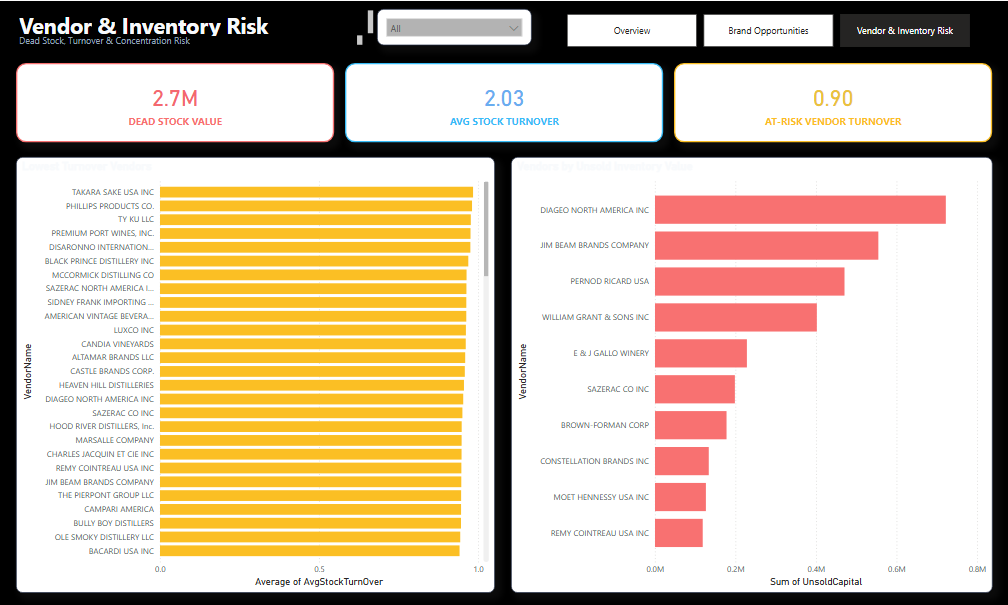

This screenshot's page, from the dashboard's own definition file:
{"tool":"powerbi","page":{"name":"Vendor & Inventory Risk","canvas":[1500,900],"ordinal":2},"visuals":[{"type":"basicShape","box":[24,76,1452,3],"z":0},{"type":"textbox","box":[24,9.3,536.5,48],"z":1000},{"type":"textbox","box":[24,46,520,24],"z":2000},{"type":"slicer","fields":{"Values":["vendor_sales_summary.VendorName"]},"box":[560,12,230,54],"z":3000},{"type":"card","fields":{"Values":["Sum(vendor_sales_summary.UnsoldCapital)"]},"box":[24,92,473.3,118],"z":4000},{"type":"card","fields":{"Values":["Avg(vendor_sales_summary.StockTurnover)"]},"box":[513.3,92,473.3,118],"z":5000},{"type":"card","fields":{"Values":["Avg(LowTurnoverVendor.AvgStockTurnOver)"]},"box":[1002.7,92,473.3,118],"z":6000},{"type":"barChart","title":"Lowest Turnover Vendors","fields":{"Category":["LowTurnoverVendor.VendorName"],"Y":["Avg(LowTurnoverVendor.AvgStockTurnOver)"]},"box":[24,232,712,648],"z":7000},{"type":"barChart","title":"Vendors by Unsold Inventory Value","fields":{"Category":["vendor_sales_summary.VendorName"],"Y":["Sum(vendor_sales_summary.UnsoldCapital)"]},"box":[760,232,716,648],"z":8000},{"type":"pageNavigator","box":[843.4,20,600.5,49.4],"z":9000}]}

Visuals, with their boxes in screenshot pixels (x1, y1, x2, y2), scaled from the page's 1500x900 canvas onto the 1008x605 screenshot:
basicShape: <bbox>16, 51, 992, 53</bbox>
textbox: <bbox>16, 6, 377, 39</bbox>
textbox: <bbox>16, 31, 366, 47</bbox>
slicer - vendor_sales_summary.VendorName: <bbox>376, 8, 531, 44</bbox>
card - Sum(vendor_sales_summary.UnsoldCapital): <bbox>16, 62, 334, 141</bbox>
card - Avg(vendor_sales_summary.StockTurnover): <bbox>345, 62, 663, 141</bbox>
card - Avg(LowTurnoverVendor.AvgStockTurnOver): <bbox>674, 62, 992, 141</bbox>
"Lowest Turnover Vendors" barChart: <bbox>16, 156, 495, 592</bbox>
"Vendors by Unsold Inventory Value" barChart: <bbox>511, 156, 992, 592</bbox>
pageNavigator: <bbox>567, 13, 970, 47</bbox>
